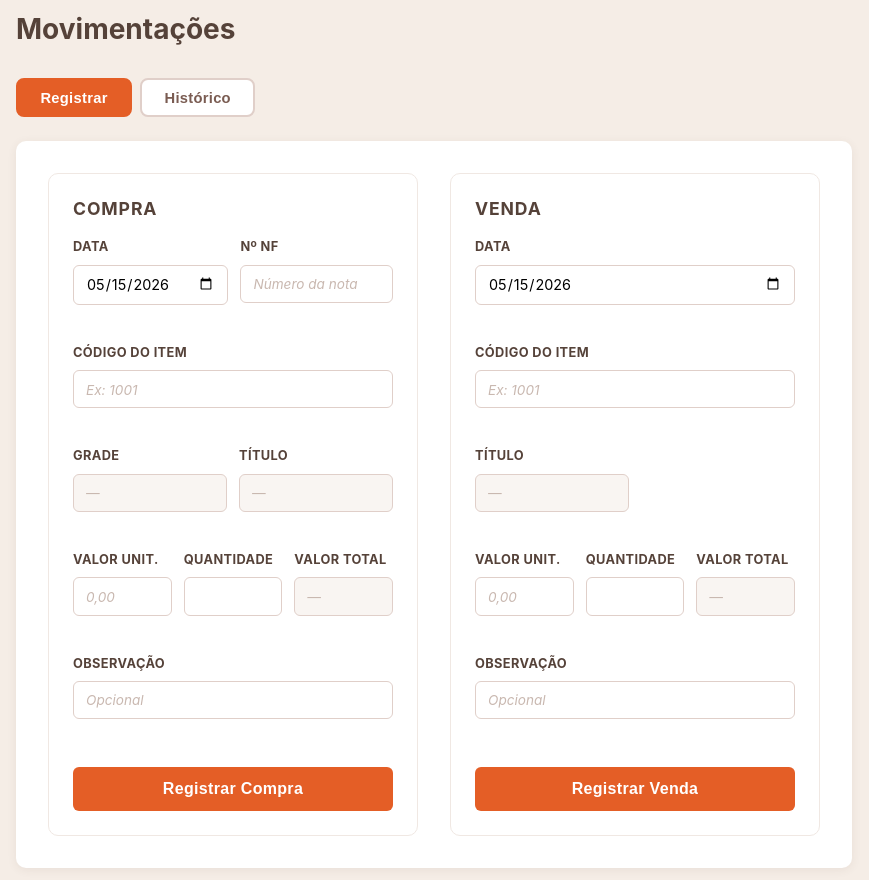
Movimentacoes › registra compra com sucesso e exibe mensagem
Note: Preenche o código do item (primeiro campo "Ex: 1001")
Type "1001" into the field with placeholder "Ex: 1001" below "Nº NF" at point(233, 389), box x1=73 y1=370 x2=393 y2=408
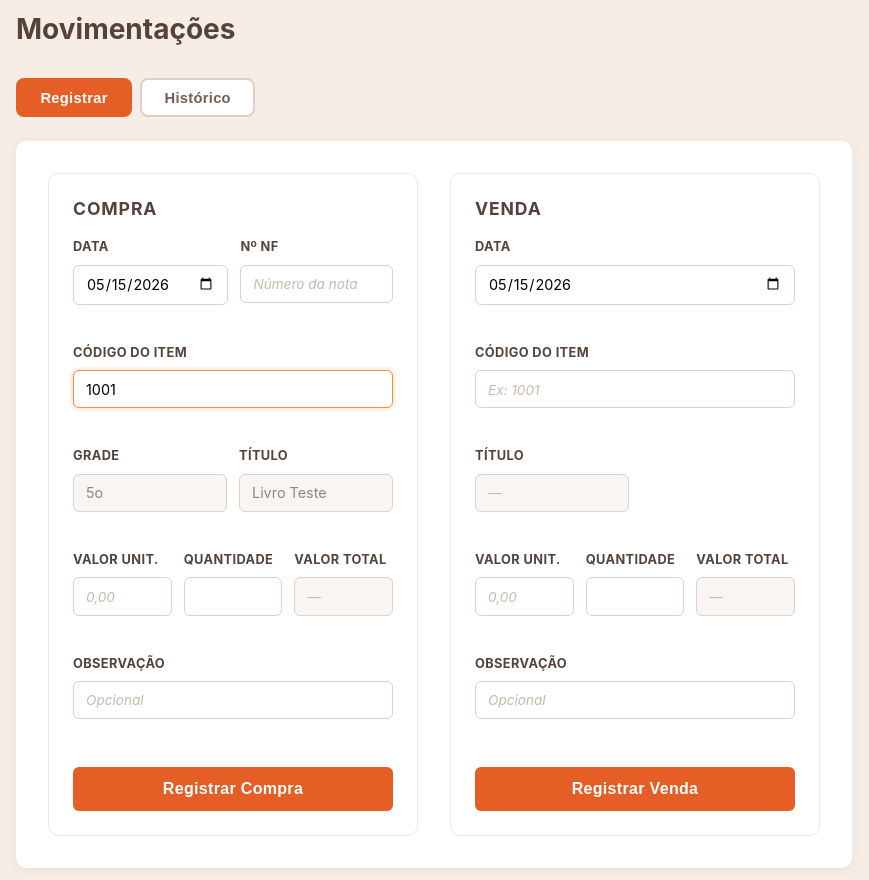
Note: Valor unitário e quantidade no form de compra
Type "29,90" into the field with placeholder "0,00" below "Grade" at point(122, 596), box x1=73 y1=577 x2=172 y2=616
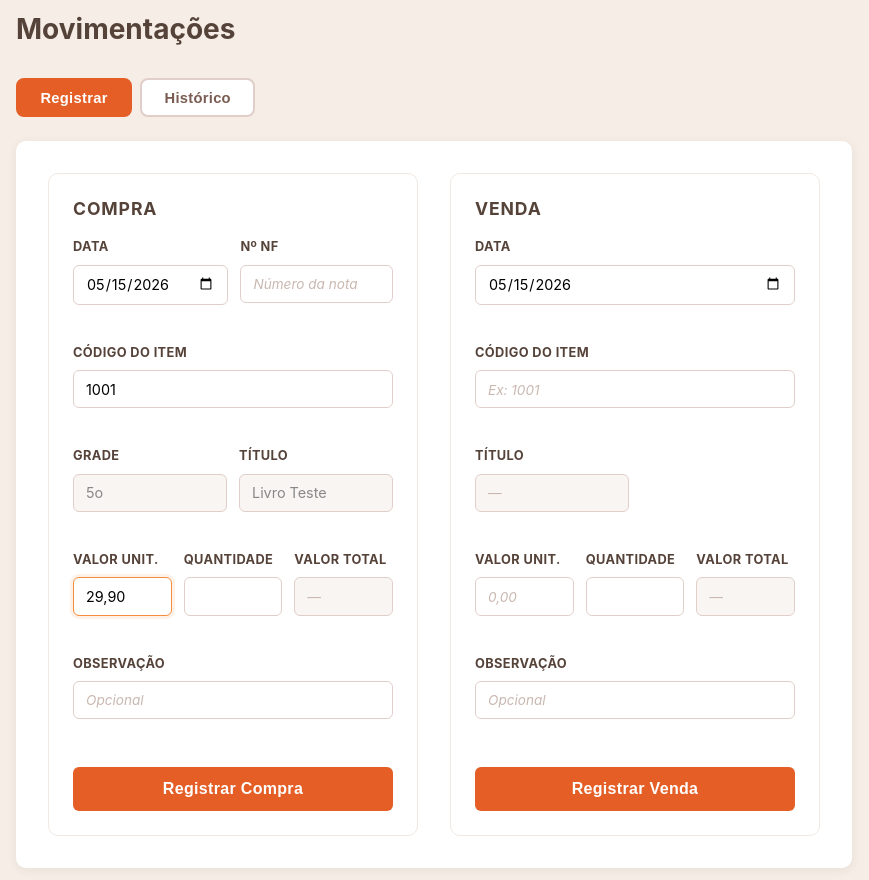
Type "10" into the number field below "Grade" at point(233, 596), box x1=184 y1=577 x2=282 y2=616
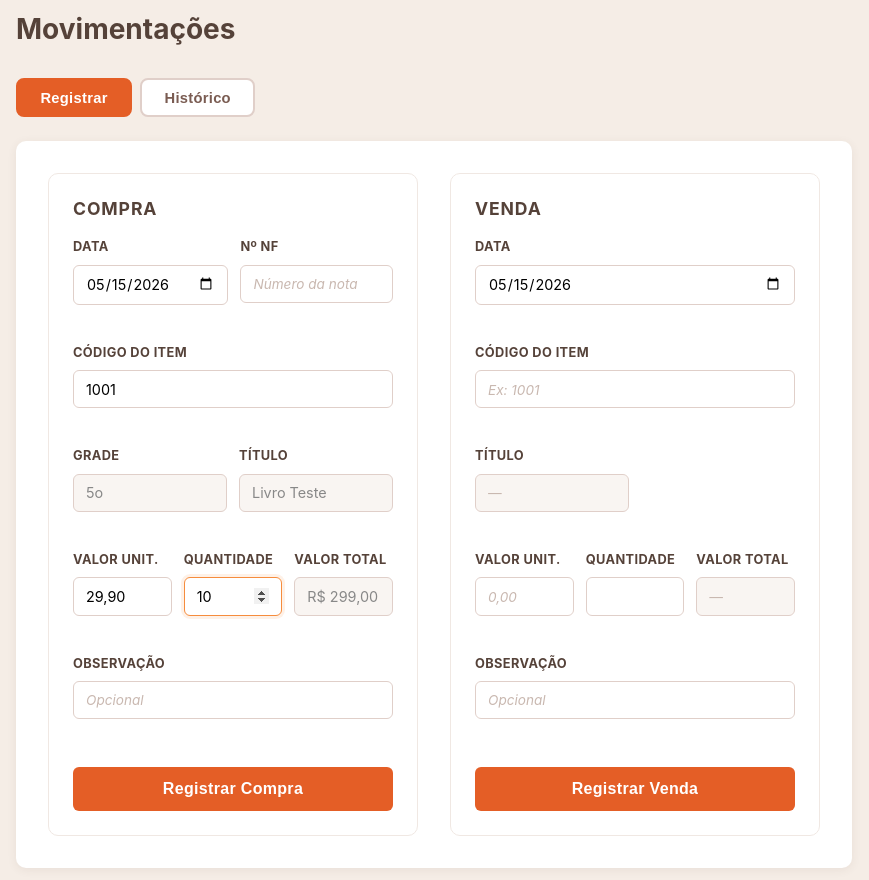
Click the button "Registrar Compra" at point(233, 789), box x1=73 y1=767 x2=393 y2=811
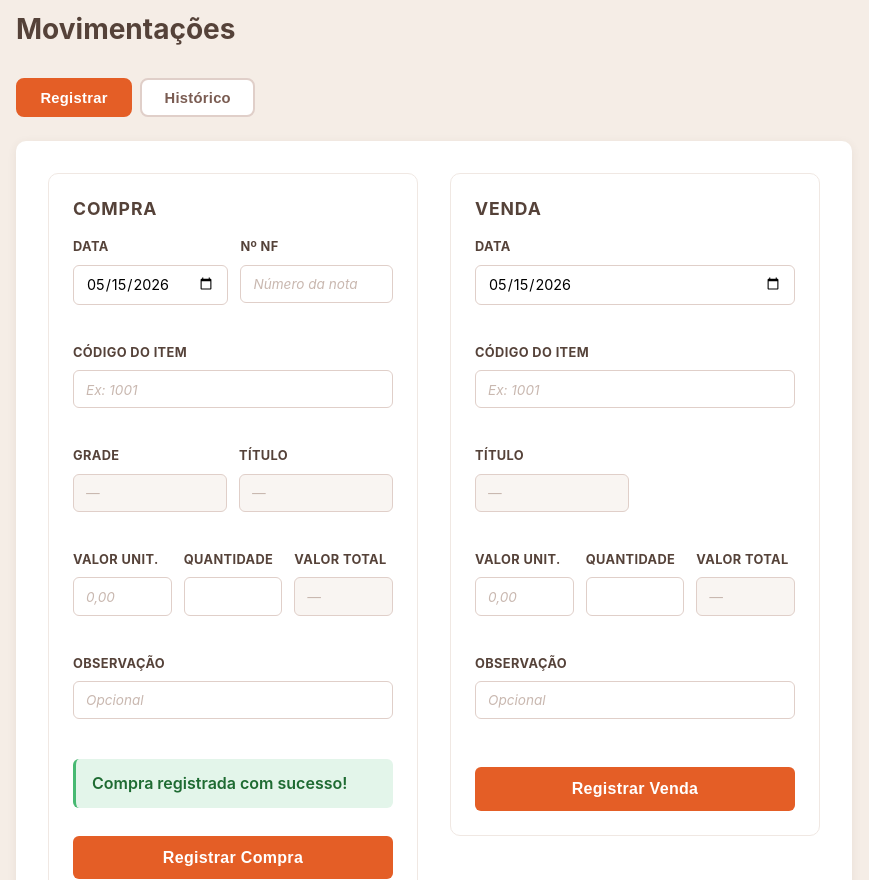
expect the text "Compra registrada com sucesso!" is shown: met, box x1=73 y1=759 x2=393 y2=808
